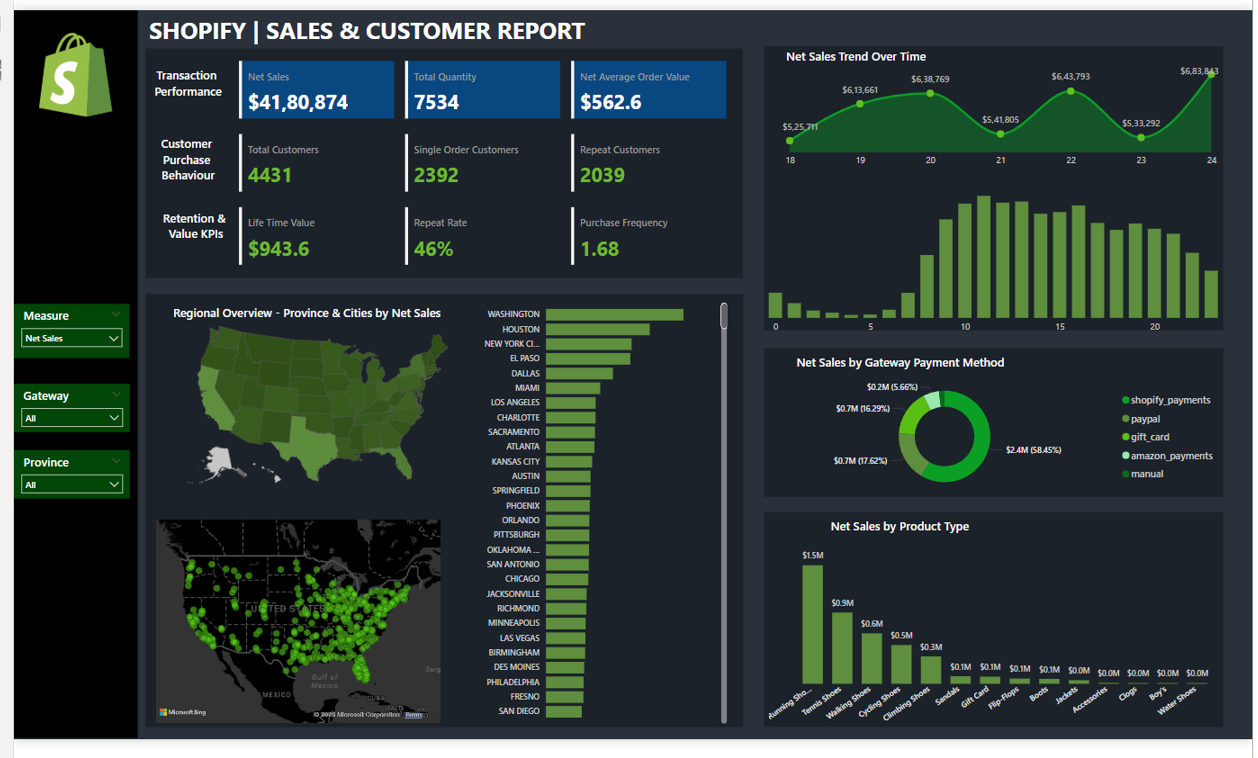

The page's visual inventory and layout, read from the dashboard file:
{"tool":"powerbi","page":{"name":"Shopify Analysis","canvas":[1700,1000],"ordinal":0},"visuals":[{"type":"shape","box":[0,0,170,999],"z":0},{"type":"textbox","box":[180.7,0,628.5,52.5],"z":1000},{"type":"shape","box":[180.7,52.5,820,315],"z":2000},{"type":"cardVisual","fields":{"Data":["shopify_sales.Net Sales","shopify_sales.Total Quantity","shopify_sales.Net Average Order Value"]},"box":[304.2,64.9,679.5,89.6],"z":3000},{"type":"card","fields":{"Values":["shopify_sales.Transaction Performance"]},"box":[159.1,52.5,160.6,94.2],"z":4000},{"type":"cardVisual","fields":{"Data":["shopify_sales.Total Customers","shopify_sales.Single Order Customers","shopify_sales.Repeat Customers"]},"box":[304.2,165.2,679.5,89.6],"z":5000},{"type":"card","fields":{"Values":["shopify_sales.Customer Purchase Behaviour"]},"box":[169.9,154.4,139,94.2],"z":6000},{"type":"cardVisual","fields":{"Data":["shopify_sales.Life Time Value","shopify_sales.Repeat Rate","shopify_sales.Purchase Frequency"]},"box":[304.2,265.6,679.5,89.6],"z":7000},{"type":"card","fields":{"Values":["shopify_sales.Retention & Value KPIs"]},"box":[180.9,248.7,138.9,93.7],"z":8000},{"type":"shape","box":[181,389,820.8,595.4],"z":9000},{"type":"shapeMap","fields":{"Value":["shopify_sales.Net Sales"],"Category":["shopify_sales.Billing Address Province"]},"box":[190.5,417.5,454.1,249.3],"z":10000},{"type":"slicer","fields":{"Values":["Select Measure .Select Measure "]},"box":[0,402.4,158.8,74.6],"z":11000},{"type":"map","fields":{"Category":["shopify_sales.Location"]},"box":[190,695,400,288.3],"z":12000},{"type":"clusteredBarChart","fields":{"Y":["shopify_sales.Net Sales"],"Category":["shopify_sales.CITY"]},"box":[628.7,389,355.6,595.4],"z":13000},{"type":"card","fields":{"Values":["shopify_sales.Map Title"]},"box":[190,395,425,45],"z":14000},{"type":"shape","box":[1030,50,630,390],"z":15000},{"type":"areaChart","fields":{"Y":["shopify_sales.Net Sales"],"Category":["shopify_sales.Invoice Date.Variation.Date Hierarchy.Day"]},"box":[1050.5,64.7,608.8,159.3],"z":16000},{"type":"columnChart","fields":{"Y":["shopify_sales.Net Sales"],"Category":["shopify_sales.Hour"]},"box":[1030,224,629.3,228.7],"z":17000},{"type":"card","fields":{"Values":["shopify_sales.Trend Title"]},"box":[1030,43.3,256.7,45],"z":18000},{"type":"shape","box":[1030,463.3,630,205],"z":19000},{"type":"donutChart","fields":{"Y":["shopify_sales.Net Sales"],"Category":["shopify_sales.Gateway"]},"box":[1030.4,500.1,630.3,169.9],"z":20000},{"type":"card","fields":{"Values":["shopify_sales.Gateway Title"]},"box":[1030.4,463.6,374.7,44.5],"z":21000},{"type":"shape","box":[1030.4,689,630.3,295.3],"z":22000},{"type":"columnChart","fields":{"Y":["shopify_sales.Net Sales"],"Category":["shopify_sales.Product Type"]},"box":[1031.9,722.4,628.7,265.1],"z":23000},{"type":"card","fields":{"Values":["shopify_sales.Product Title"]},"box":[1031.5,689.3,373.8,44.2],"z":24000},{"type":"image","box":[20.5,26.8,129.3,124.6],"z":25000},{"type":"slicer","fields":{"Values":["shopify_sales.Gateway"]},"box":[0,512.2,159.3,66.2],"z":26000},{"type":"slicer","fields":{"Values":["shopify_sales.Billing Address Province"]},"box":[0,604.1,159.3,66.2],"z":27000}]}

Visuals, with their boxes in screenshot pixels (x1, y1, x2, y2), scaled from the page's 1700x1000 canvas onto the 1258x758 screenshot:
shape: 0 0 126 757
textbox: 134 0 599 40
shape: 134 40 741 279
cardVisual - shopify_sales.Net Sales x shopify_sales.Total Quantity: 225 49 728 117
card - shopify_sales.Transaction Performance: 118 40 237 111
cardVisual - shopify_sales.Total Customers x shopify_sales.Single Order Customers: 225 125 728 193
card - shopify_sales.Customer Purchase Behaviour: 126 117 229 188
cardVisual - shopify_sales.Life Time Value x shopify_sales.Repeat Rate: 225 201 728 269
card - shopify_sales.Retention & Value KPIs: 134 189 237 260
shape: 134 295 741 746
shapeMap - shopify_sales.Net Sales x shopify_sales.Billing Address Province: 141 316 477 505
slicer - Select Measure .Select Measure : 0 305 118 362
map - shopify_sales.Location: 141 527 437 745
clusteredBarChart - shopify_sales.Net Sales x shopify_sales.CITY: 465 295 728 746
card - shopify_sales.Map Title: 141 299 455 334
shape: 762 38 1228 334
areaChart - shopify_sales.Net Sales x shopify_sales.Invoice Date.Variation.Date Hierarchy.Day: 777 49 1228 170
columnChart - shopify_sales.Net Sales x shopify_sales.Hour: 762 170 1228 343
card - shopify_sales.Trend Title: 762 33 952 67
shape: 762 351 1228 507
donutChart - shopify_sales.Net Sales x shopify_sales.Gateway: 762 379 1229 508
card - shopify_sales.Gateway Title: 762 351 1040 385
shape: 762 522 1229 746
columnChart - shopify_sales.Net Sales x shopify_sales.Product Type: 764 548 1229 749
card - shopify_sales.Product Title: 763 522 1040 556
image: 15 20 111 115
slicer - shopify_sales.Gateway: 0 388 118 438
slicer - shopify_sales.Billing Address Province: 0 458 118 508
